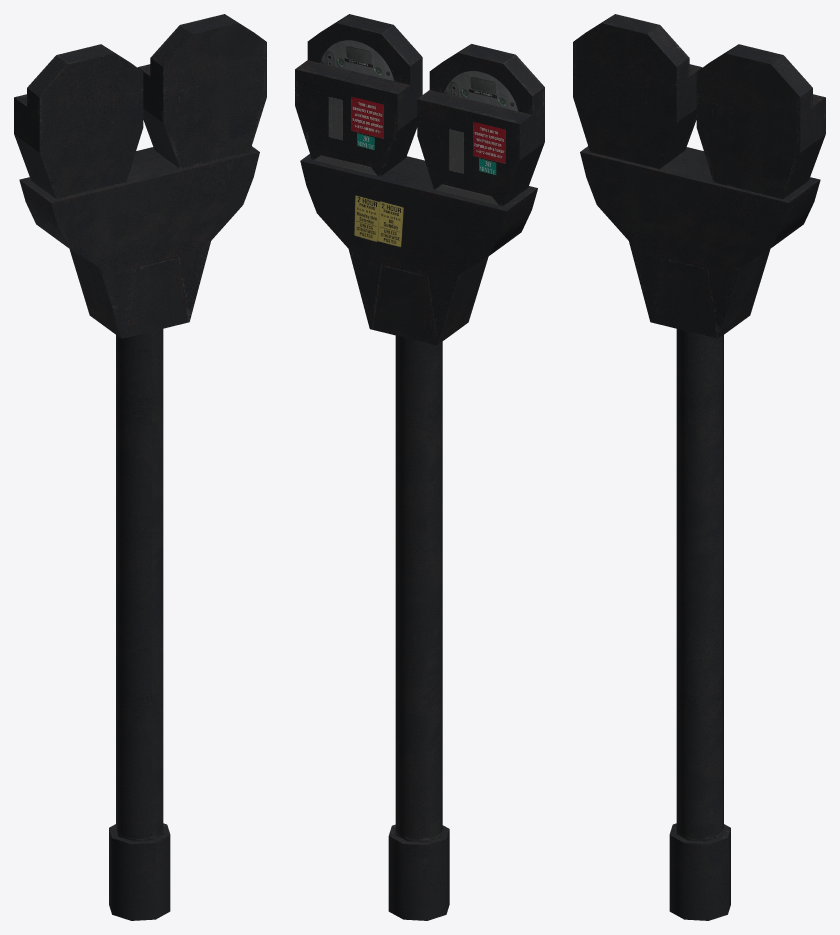
Rendered from prp_parkingMeter.fbx.
3 renders of one model, left to right at view 1: azimuth 30°, elevation 25°; view 2: azimuth 150°, elevation 25°; view 3: azimuth 330°, elevation 25°, orthographic.
Visible parts, largest first — view 1: prp_parkingMeter; view 2: prp_parkingMeter; view 3: prp_parkingMeter.
Boxes of the visible parts, left/top/right/bottom form: prp_parkingMeter: left=14, top=14, right=266, bottom=920; prp_parkingMeter: left=295, top=14, right=544, bottom=920; prp_parkingMeter: left=573, top=14, right=825, bottom=920.
Bounding box in the file's own units: 27.04 × 99.39 × 6.58.
